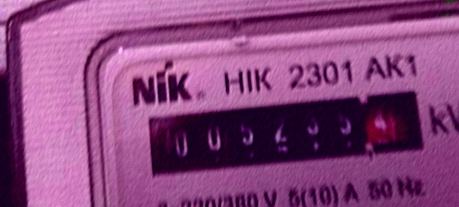0: (205, 121, 228, 156), (174, 128, 194, 161)
2: (271, 112, 294, 148)
3: (302, 107, 329, 142)
4: (371, 101, 396, 139)
5: (336, 104, 361, 141), (239, 116, 261, 151)
screen: (132, 78, 441, 191)
